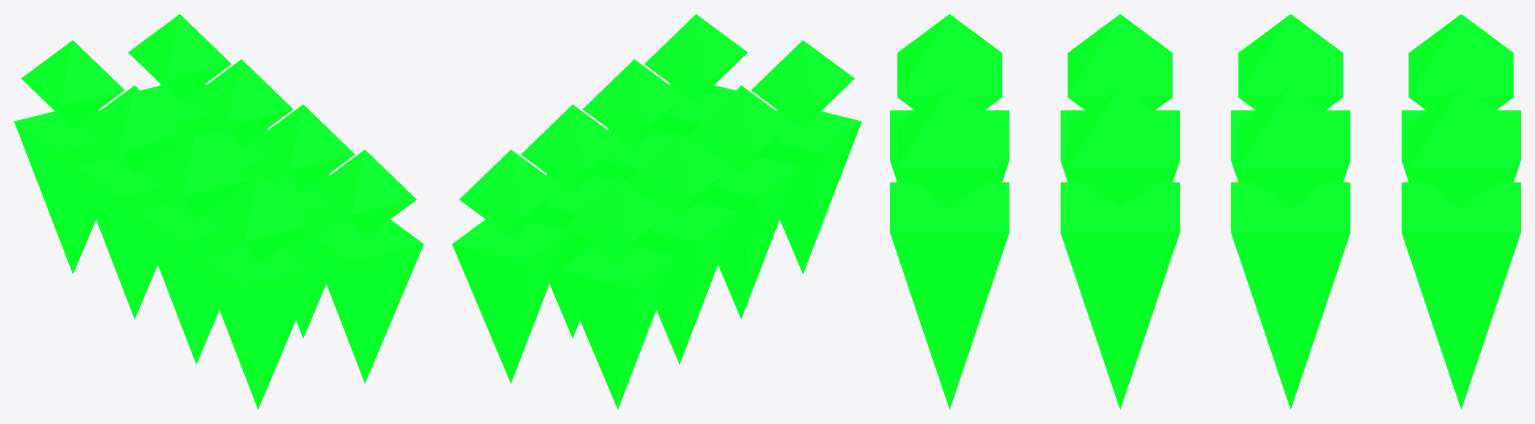
File: person_g08.glb
3 renders of one model, left to right at view 1: azimuth 30°, elevation 25°; view 2: azimuth 150°, elevation 25°; view 3: azimuth 270°, elevation 25°, orthographic. The views are drawn at different scales.
Parts seen in each view (by area): view 1: person.011, person.012, person.016, person.018, person.014, person.013, person.015, person.017; view 2: person.017, person.018, person.014, person.012, person.016, person.015, person.013, person.011; view 3: person.013, person.015, person.011, person.017, person.014, person.016, person.012, person.018.
Boxes of the visible parts, <box> form: person.011: <box>306,150,423,383</box>; person.012: <box>199,176,316,409</box>; person.016: <box>76,85,186,318</box>; person.018: <box>14,40,124,273</box>; person.014: <box>137,130,247,364</box>; person.013: <box>251,104,354,338</box>; person.015: <box>190,59,293,201</box>; person.017: <box>128,14,231,155</box>; person.017: <box>452,150,569,383</box>; person.018: <box>559,176,676,409</box>; person.014: <box>689,85,799,318</box>; person.012: <box>751,40,861,273</box>; person.016: <box>628,130,738,364</box>; person.015: <box>521,104,624,338</box>; person.013: <box>582,59,685,201</box>; person.011: <box>644,14,747,155</box>; person.013: <box>1060,86,1179,409</box>; person.015: <box>1231,86,1350,409</box>; person.011: <box>890,86,1009,409</box>; person.017: <box>1401,86,1520,409</box>; person.014: <box>1060,14,1179,182</box>; person.016: <box>1231,14,1350,182</box>; person.012: <box>890,14,1009,182</box>; person.018: <box>1401,14,1520,182</box>.
Size of the model in its own units: 1.7 by 2.1 by 3.7.
